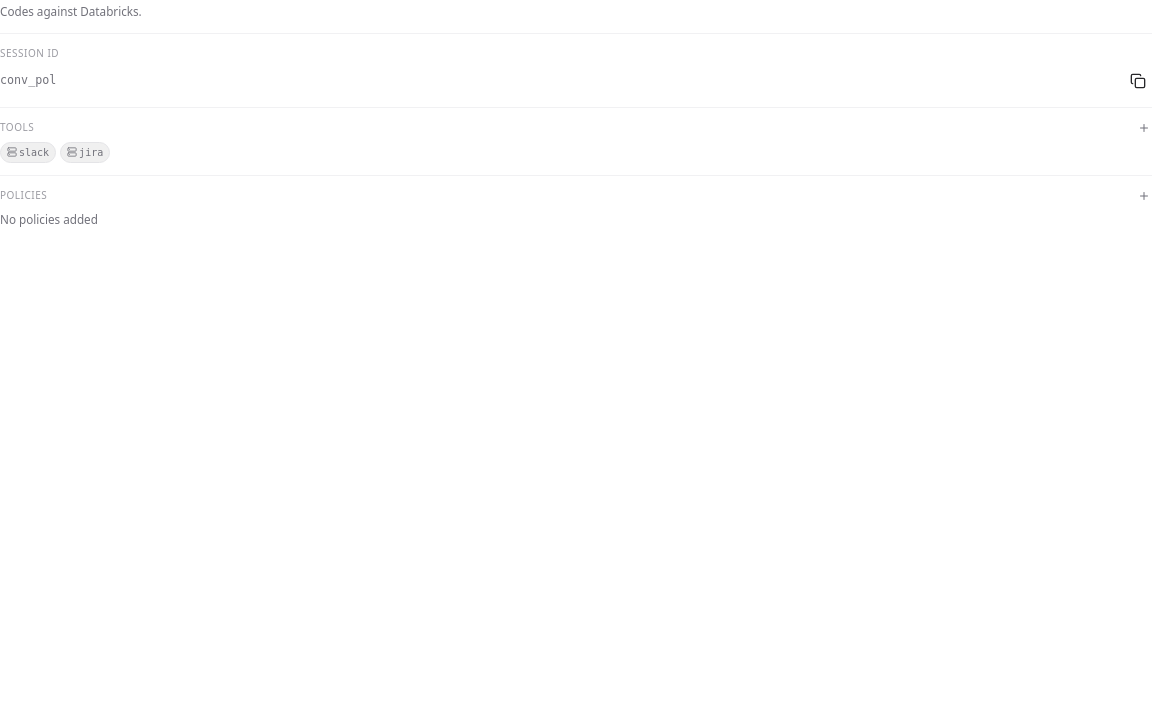
Test: SessionPoliciesSection › reopening the dialog after closing mid-config starts back at the list
Click the button titled "Add policy" at (1144, 196), box [1136,188,1151,204]
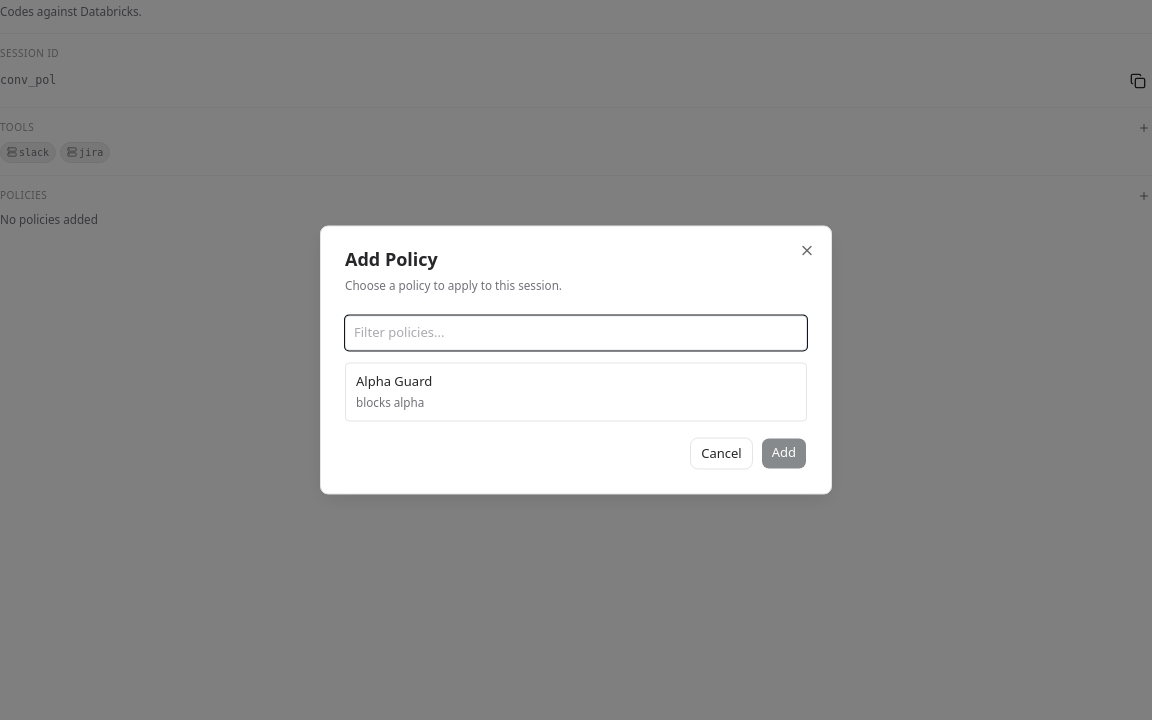
Click the text "Alpha Guard" at (394, 381), box [356,371,432,392]
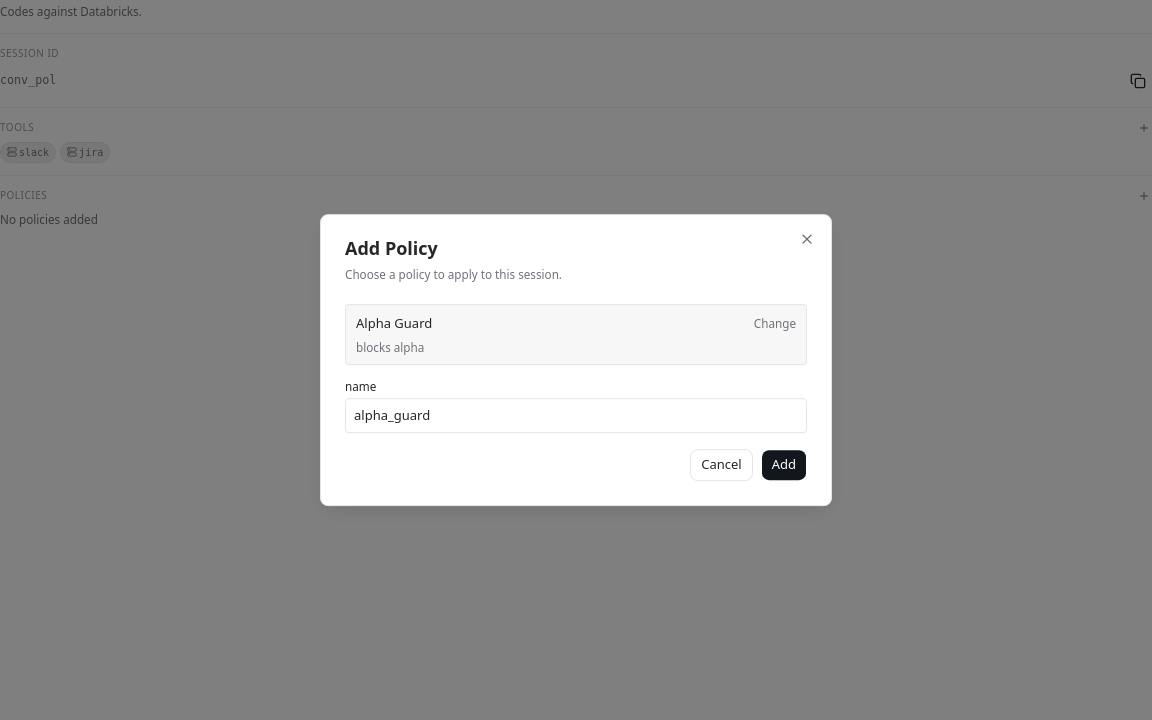
Press Escape in the dialog, box [320,214,832,506]
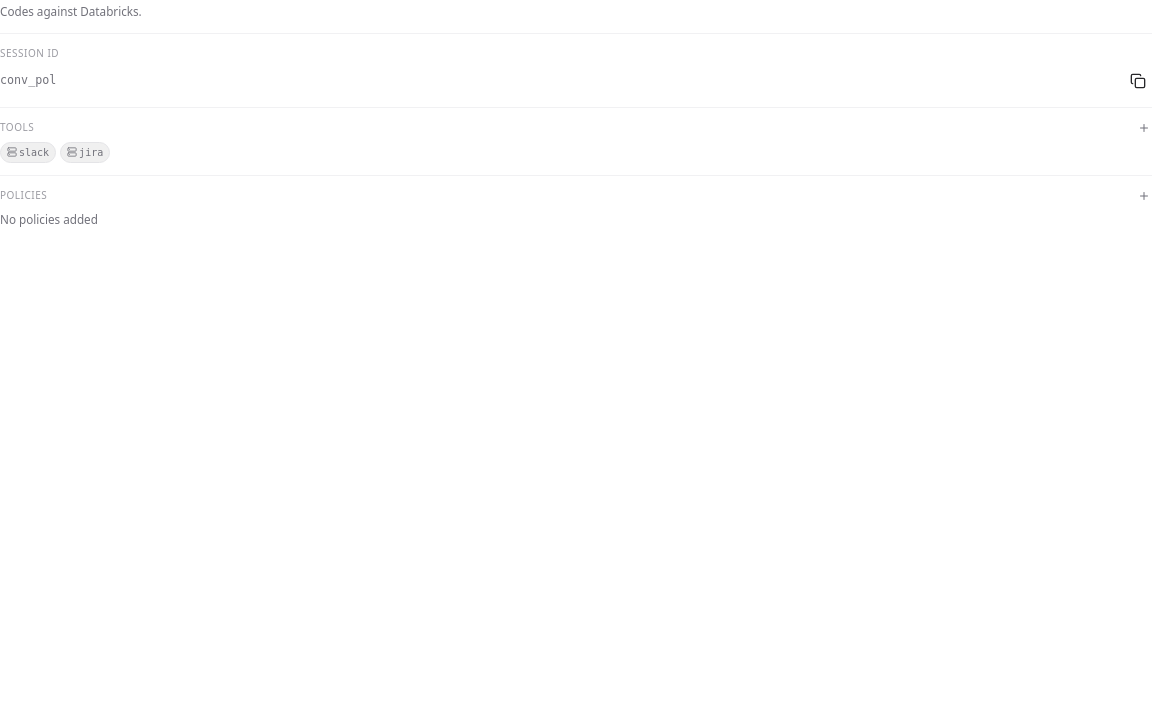
Expected: the dialog is gone
Click the button titled "Add policy" at (1144, 196), box [1136,188,1151,204]
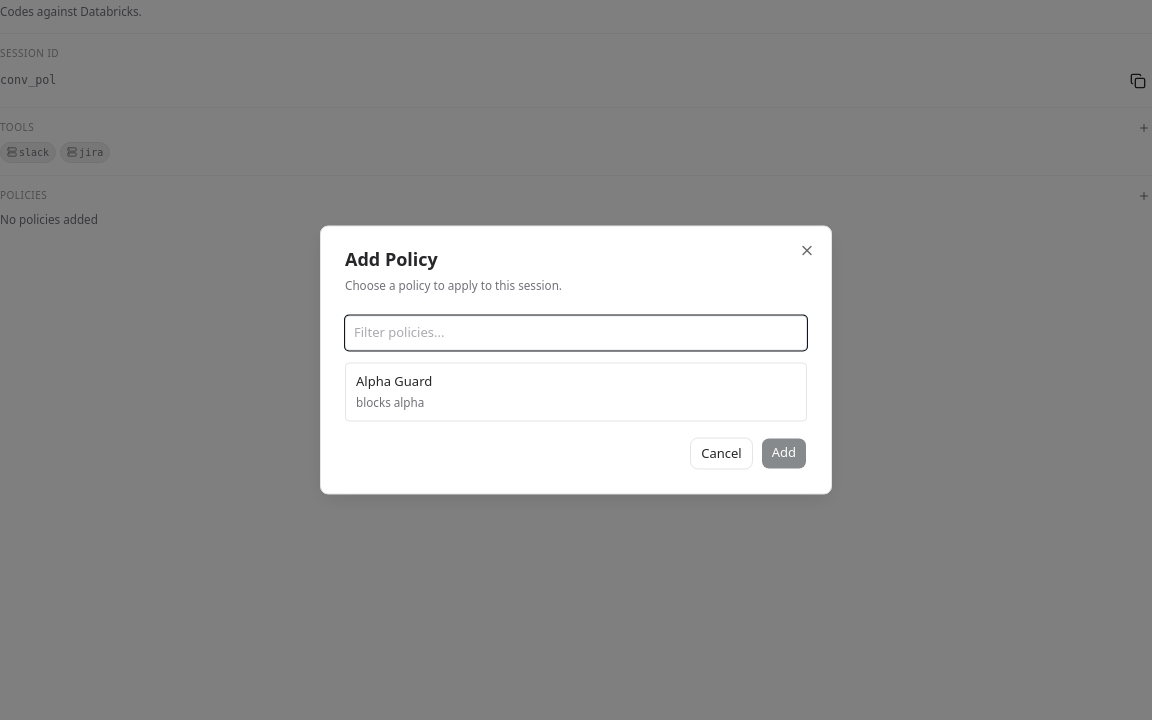
Expected: the field with placeholder "Filter policies..." is shown, [345,315,807,350]
